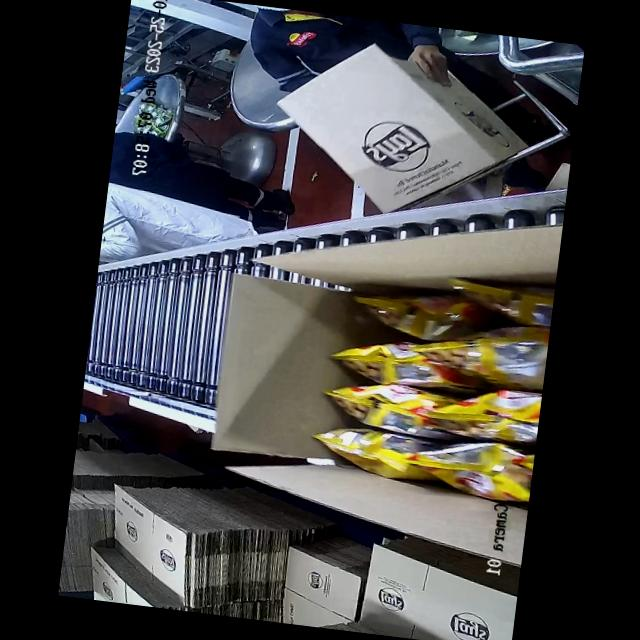salted: (332, 280, 552, 503)
